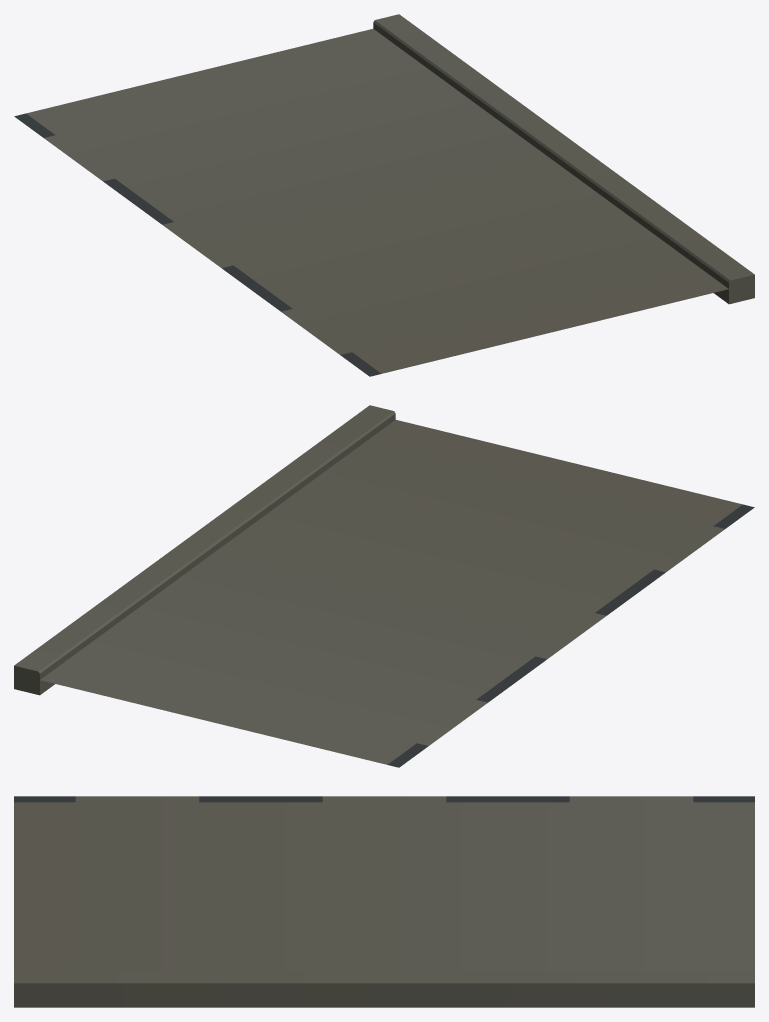
Rendered from Road_01.fbx.
3 renders of one model, top to bottom at view 1: azimuth 30°, elevation 25°; view 2: azimuth 150°, elevation 25°; view 3: azimuth 270°, elevation 25°, orthographic. The views are drawn at different scales.
Parts seen in each view (by area): view 1: Road_01; view 2: Road_01; view 3: Road_01.
Boxes of the visible parts, bbox=[...] form: Road_01: bbox=[14, 14, 754, 376]; Road_01: bbox=[14, 405, 754, 767]; Road_01: bbox=[14, 796, 754, 1007].
Bounding box in the file's own units: 2.5 × 0.1455 × 4.
